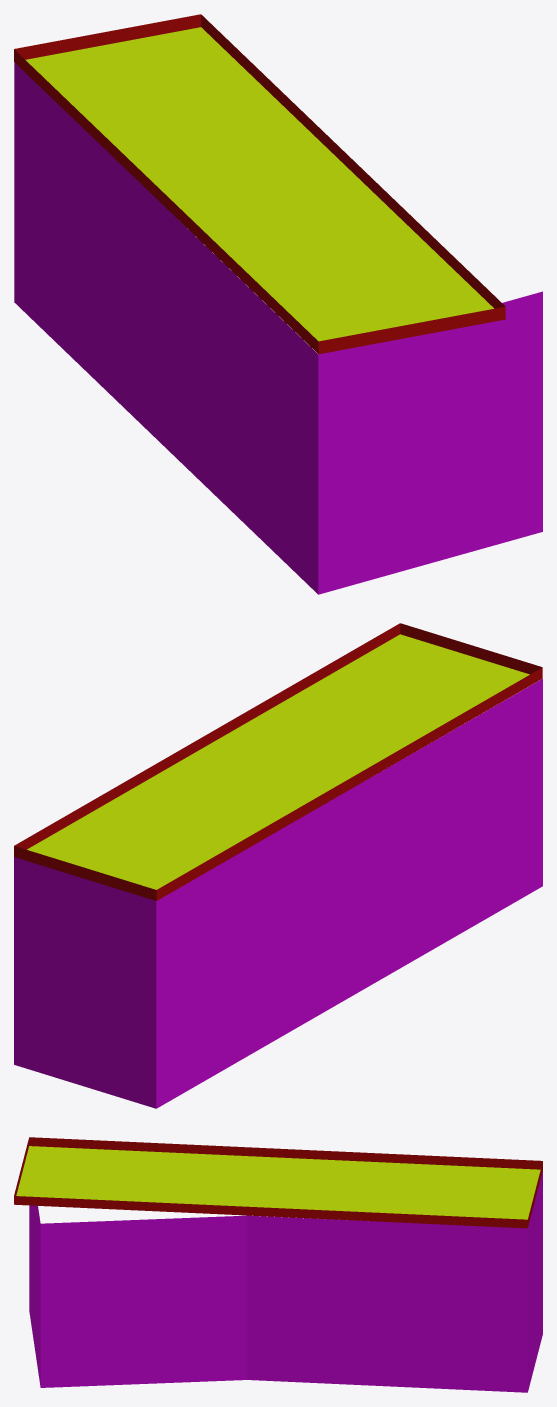
The model's file is bgj_321.glb.
3 renders of one model, top to bottom at view 1: azimuth 30°, elevation 25°; view 2: azimuth 150°, elevation 25°; view 3: azimuth 270°, elevation 25°, orthographic. The views are drawn at different scales.
Visible parts, largest first — view 1: bgj_321; view 2: bgj_321; view 3: bgj_321.
Boxes of the visible parts, left/top/right/bottom form: bgj_321: left=14, top=14, right=542, bottom=594; bgj_321: left=14, top=623, right=542, bottom=1108; bgj_321: left=14, top=1137, right=542, bottom=1392.
Bounding box in the file's own units: 7.02 × 6.87 × 19.01.
